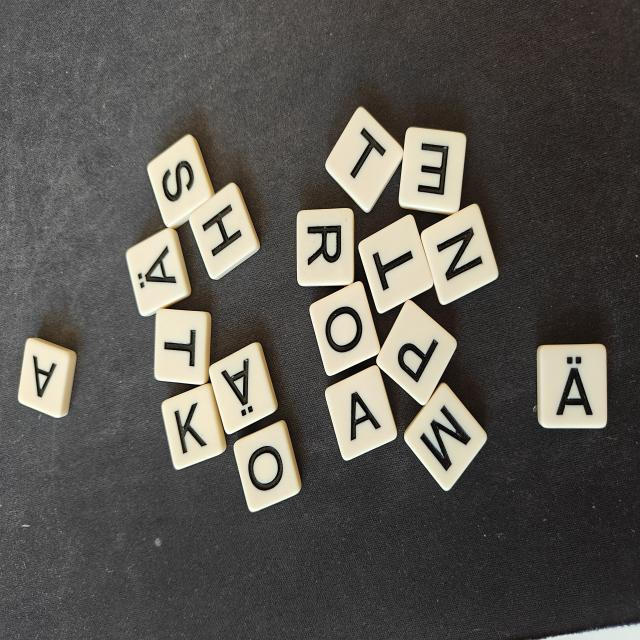a: (325, 366, 397, 460), (18, 338, 77, 418)
a_dot: (209, 342, 277, 434), (537, 344, 607, 428), (126, 228, 191, 316)
e: (399, 127, 466, 214)
h: (189, 183, 260, 280)
k: (162, 383, 226, 470)
m: (404, 383, 487, 490)
n: (421, 204, 498, 304)
o: (310, 282, 380, 375), (234, 420, 301, 512)
p: (376, 300, 457, 405)
r: (297, 208, 354, 286)
s: (147, 134, 214, 229)
t: (325, 107, 403, 212), (359, 215, 433, 313), (154, 309, 211, 385)
